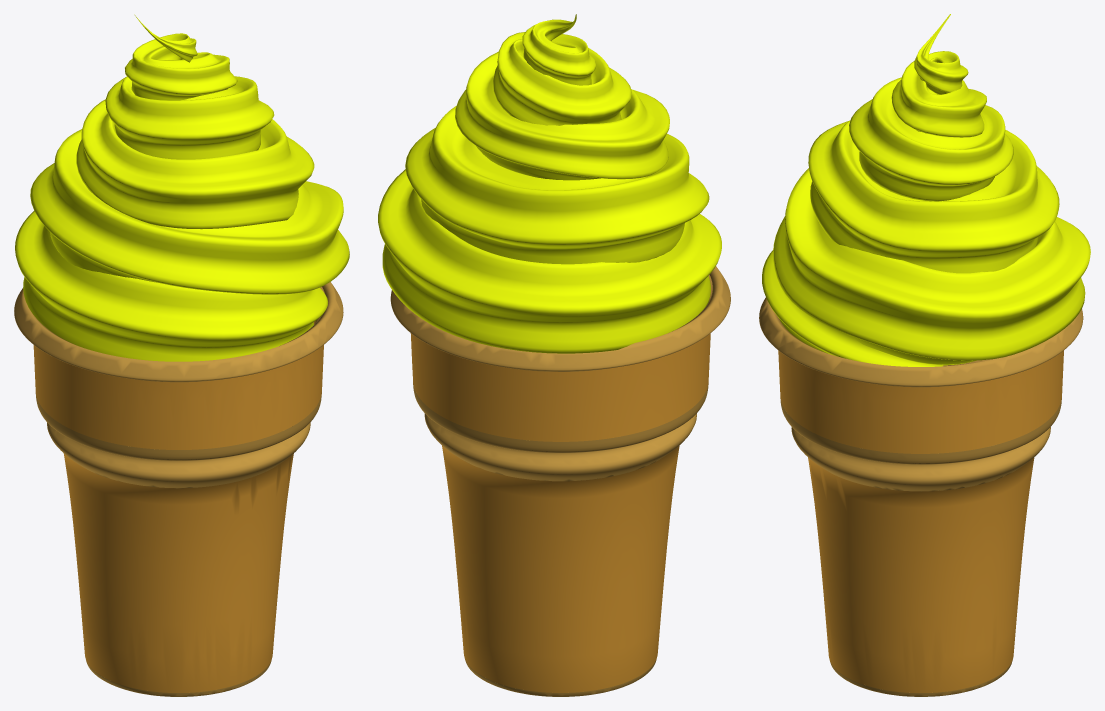
File: icecream2-opt.glb
3 views of the same model, side by side, from view 1: azimuth 30°, elevation 25°; view 2: azimuth 150°, elevation 25°; view 3: azimuth 270°, elevation 25° (orthographic). The views are drawn at different scales.
Parts seen in each view (by area): view 1: food, Cylinder.002_Waffle_0, Cylinder.002_Cone_0; view 2: food, Cylinder.002_Waffle_0, Cylinder.002_Cone_0; view 3: food, Cylinder.002_Waffle_0, Cylinder.002_Cone_0.
Boxes of the visible parts, bbox=[...] form: food: bbox=[15, 14, 349, 361]; Cylinder.002_Waffle_0: bbox=[33, 321, 323, 692]; Cylinder.002_Cone_0: bbox=[14, 282, 343, 696]; food: bbox=[378, 14, 721, 353]; Cylinder.002_Waffle_0: bbox=[410, 333, 710, 692]; Cylinder.002_Cone_0: bbox=[390, 266, 730, 696]; food: bbox=[762, 14, 1090, 366]; Cylinder.002_Waffle_0: bbox=[778, 350, 1063, 692]; Cylinder.002_Cone_0: bbox=[759, 297, 1083, 696].
Bounding box in the file's own units: 0.5854 × 1.2 × 0.5733.
